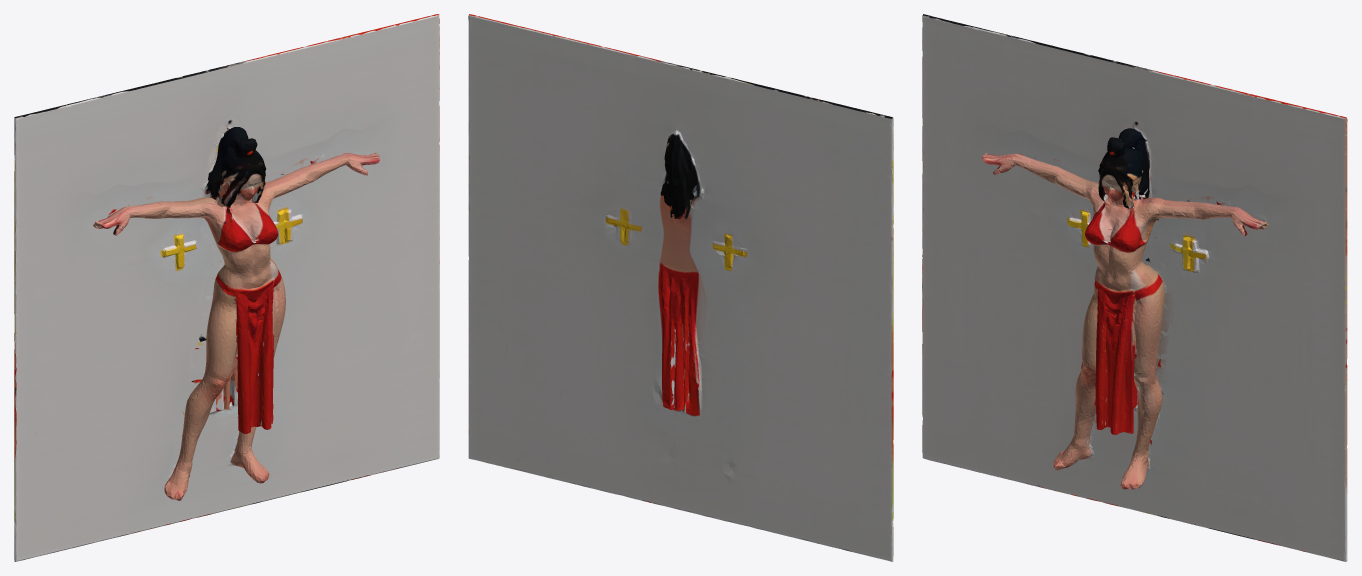
Rendered from succubus_textured_v21.obj.
3 renders of one model, left to right at view 1: azimuth 30°, elevation 25°; view 2: azimuth 150°, elevation 25°; view 3: azimuth 330°, elevation 25°, orthographic.
Visible parts, largest first — view 1: succubus_textured_v21; view 2: succubus_textured_v21; view 3: succubus_textured_v21.
Boxes of the visible parts, <box> form: succubus_textured_v21: <box>14,14,439,561</box>; succubus_textured_v21: <box>468,14,893,561</box>; succubus_textured_v21: <box>922,14,1347,561</box>.
Bounding box in the file's own units: 1.99 × 2 × 0.3211.
1 material, 1 textured.
